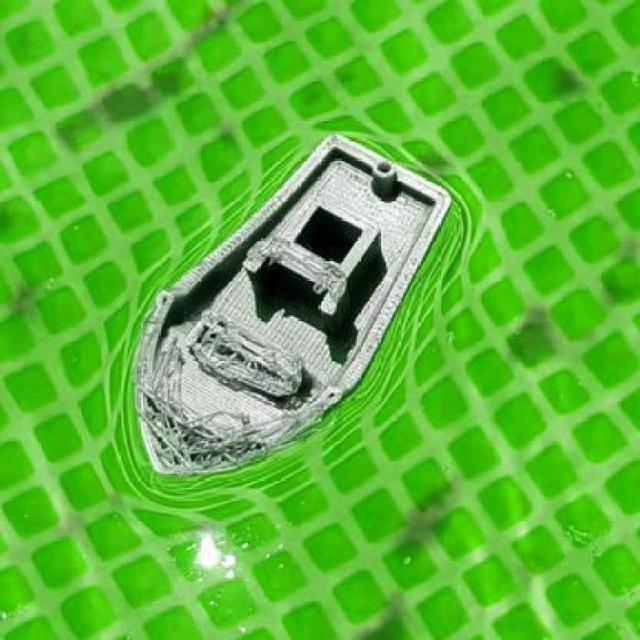Spaghetti: (139, 318, 304, 476), (248, 234, 348, 300)
